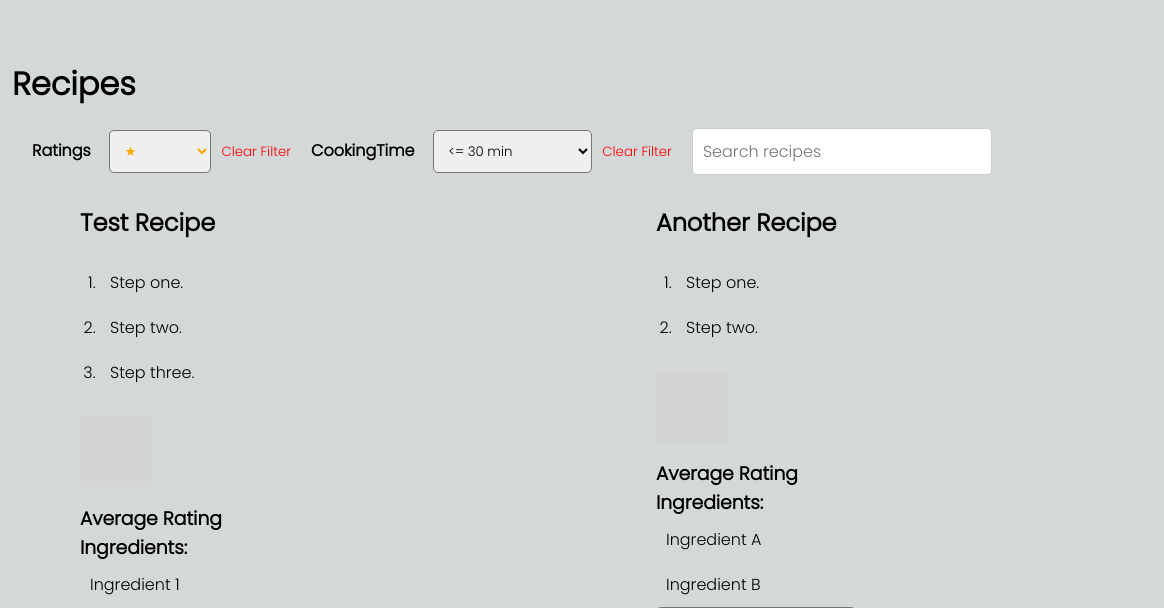
Test case: ViewAllRecipes › should show "No recipes found" when no recipes match the search term
The width and height of the screenshot is (1164, 608).
Type "Nonexistent Recipe" into the field with placeholder "Search recipes" at (842, 152), box [692, 128, 992, 175]
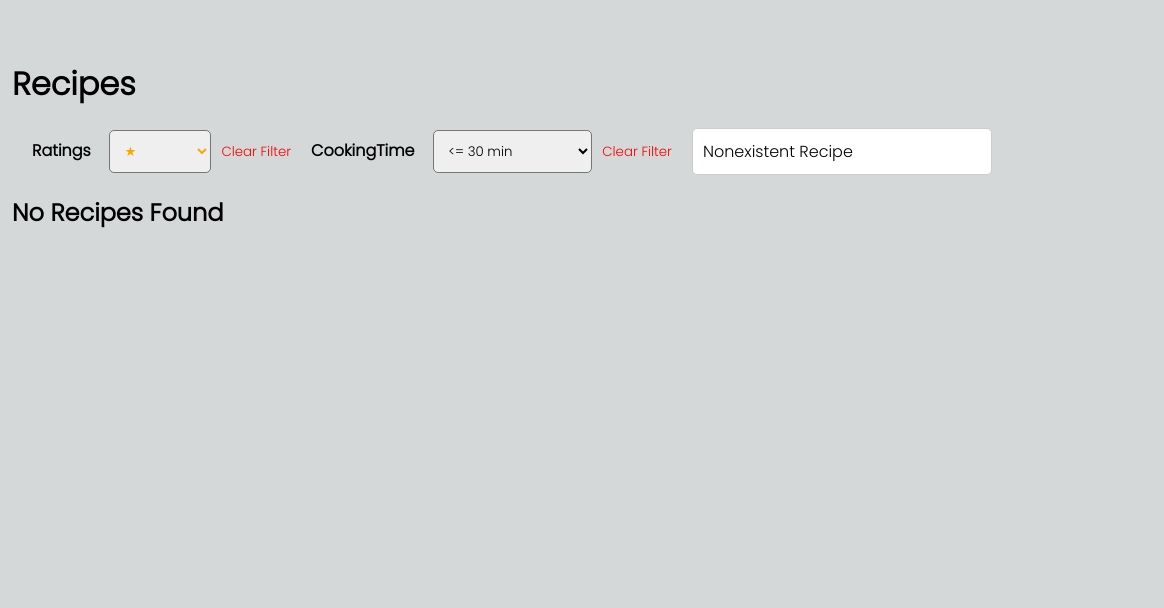
Expected: the heading "No Recipes Found" is shown, [12, 196, 224, 229]
